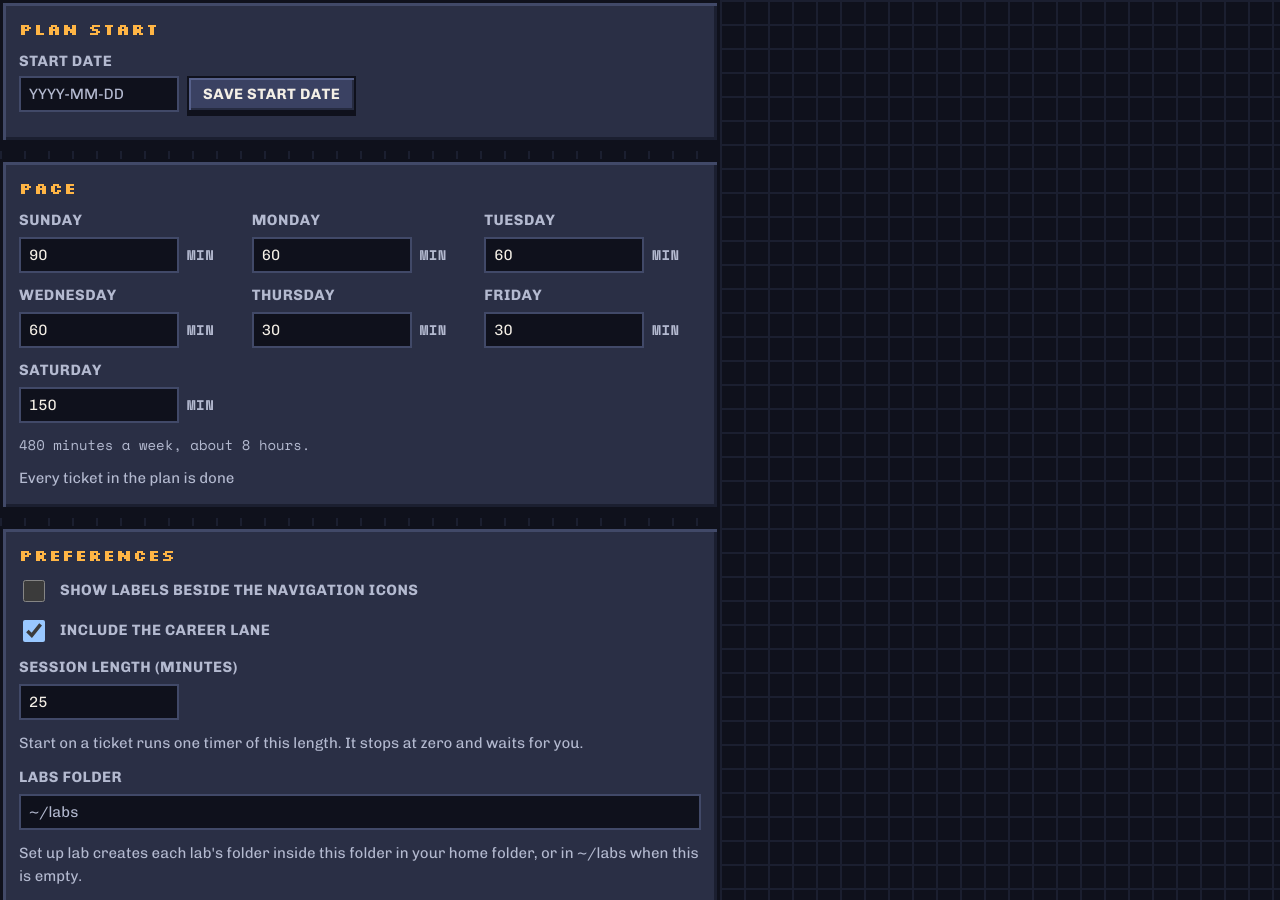
Test: Settings: a failing save › plan start: a failing save toasts one sentence and the form stays usable
expect the element with test id "settings-pace" is shown: met, box [0, 159, 720, 510]
Click the button "Save start date" at (272, 94), box [187, 76, 356, 112]
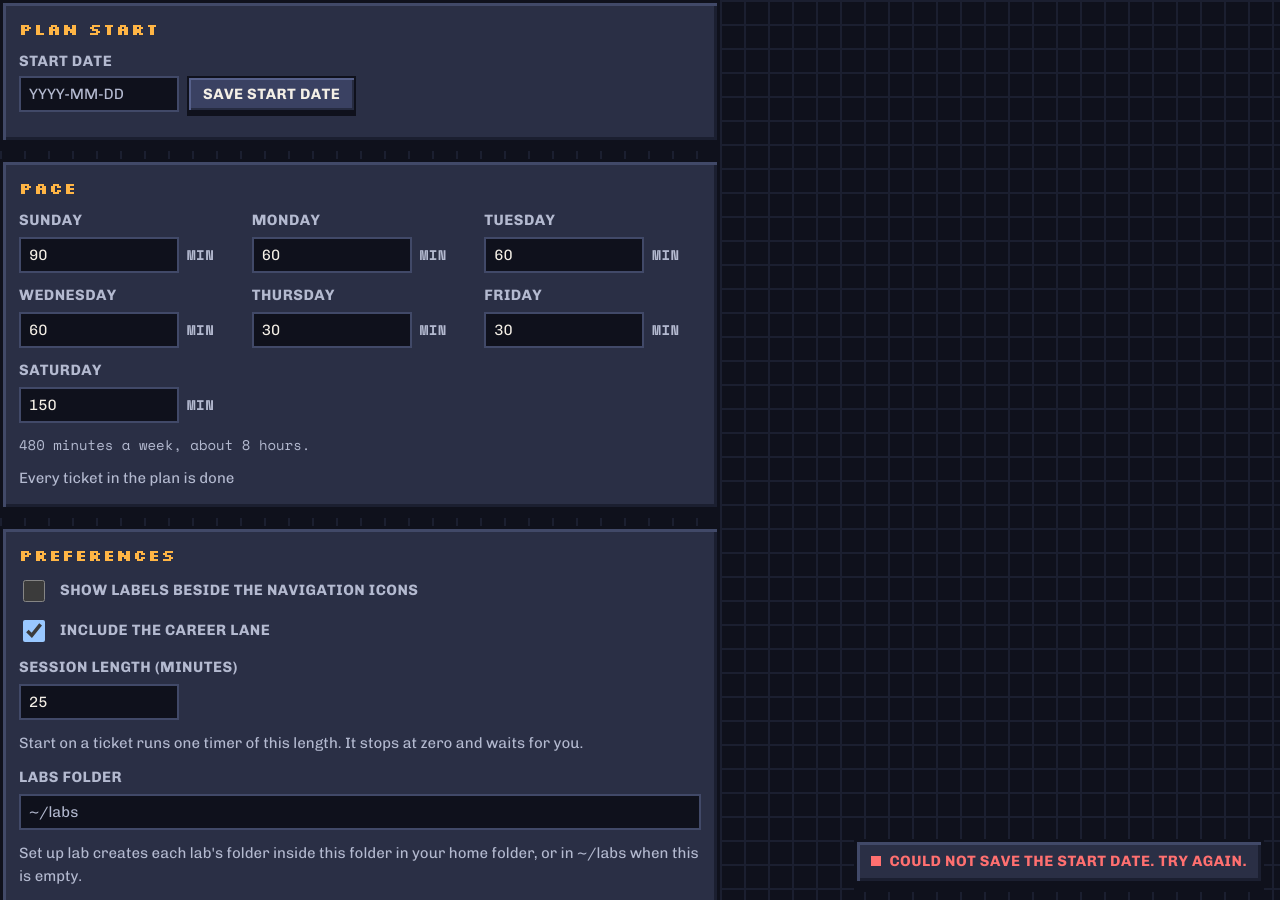
expect the text "Could not save the start date. Try again." is shown: met, box [854, 839, 1264, 884]
